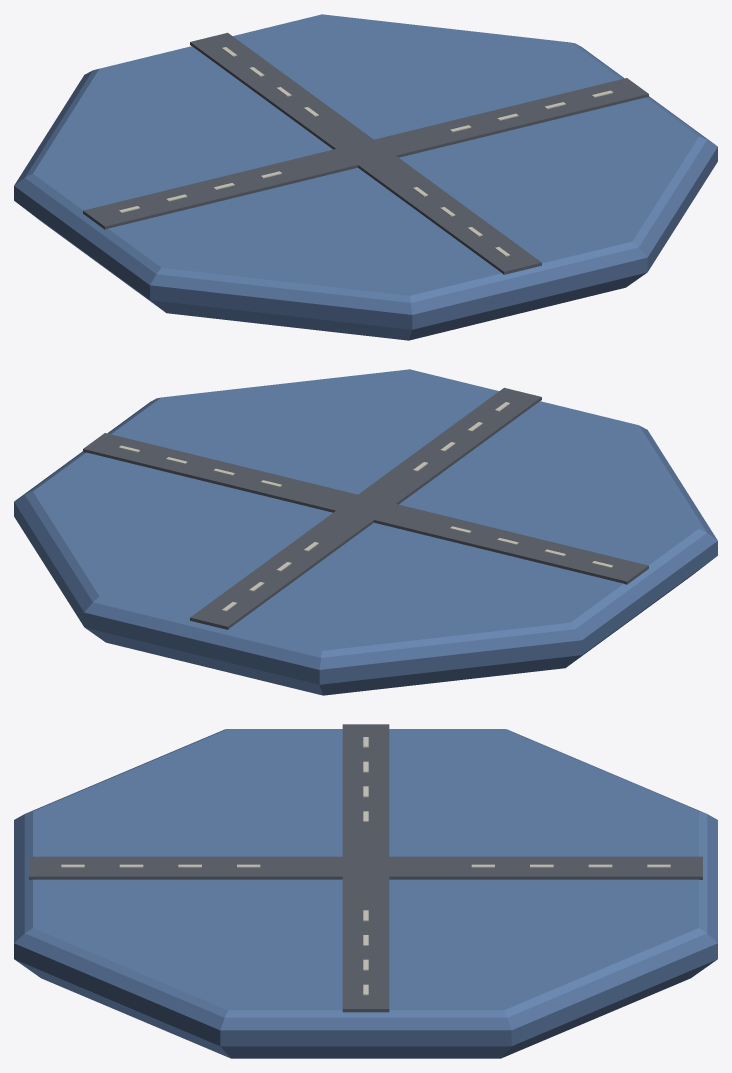
Rendered from CityPlatform.glb.
3 views of the same model, one above another, from view 1: azimuth 30°, elevation 25°; view 2: azimuth 150°, elevation 25°; view 3: azimuth 270°, elevation 25° (orthographic). The views are drawn at different scales.
Visible parts, largest first — view 1: CityPlatform; view 2: CityPlatform; view 3: CityPlatform.
Boxes of the visible parts, left/top/right/bottom form: CityPlatform: left=14, top=14, right=717, bottom=340; CityPlatform: left=14, top=369, right=717, bottom=695; CityPlatform: left=14, top=724, right=717, bottom=1058.
Size of the model in its own units: 48.04 by 10.2 by 48.04.
